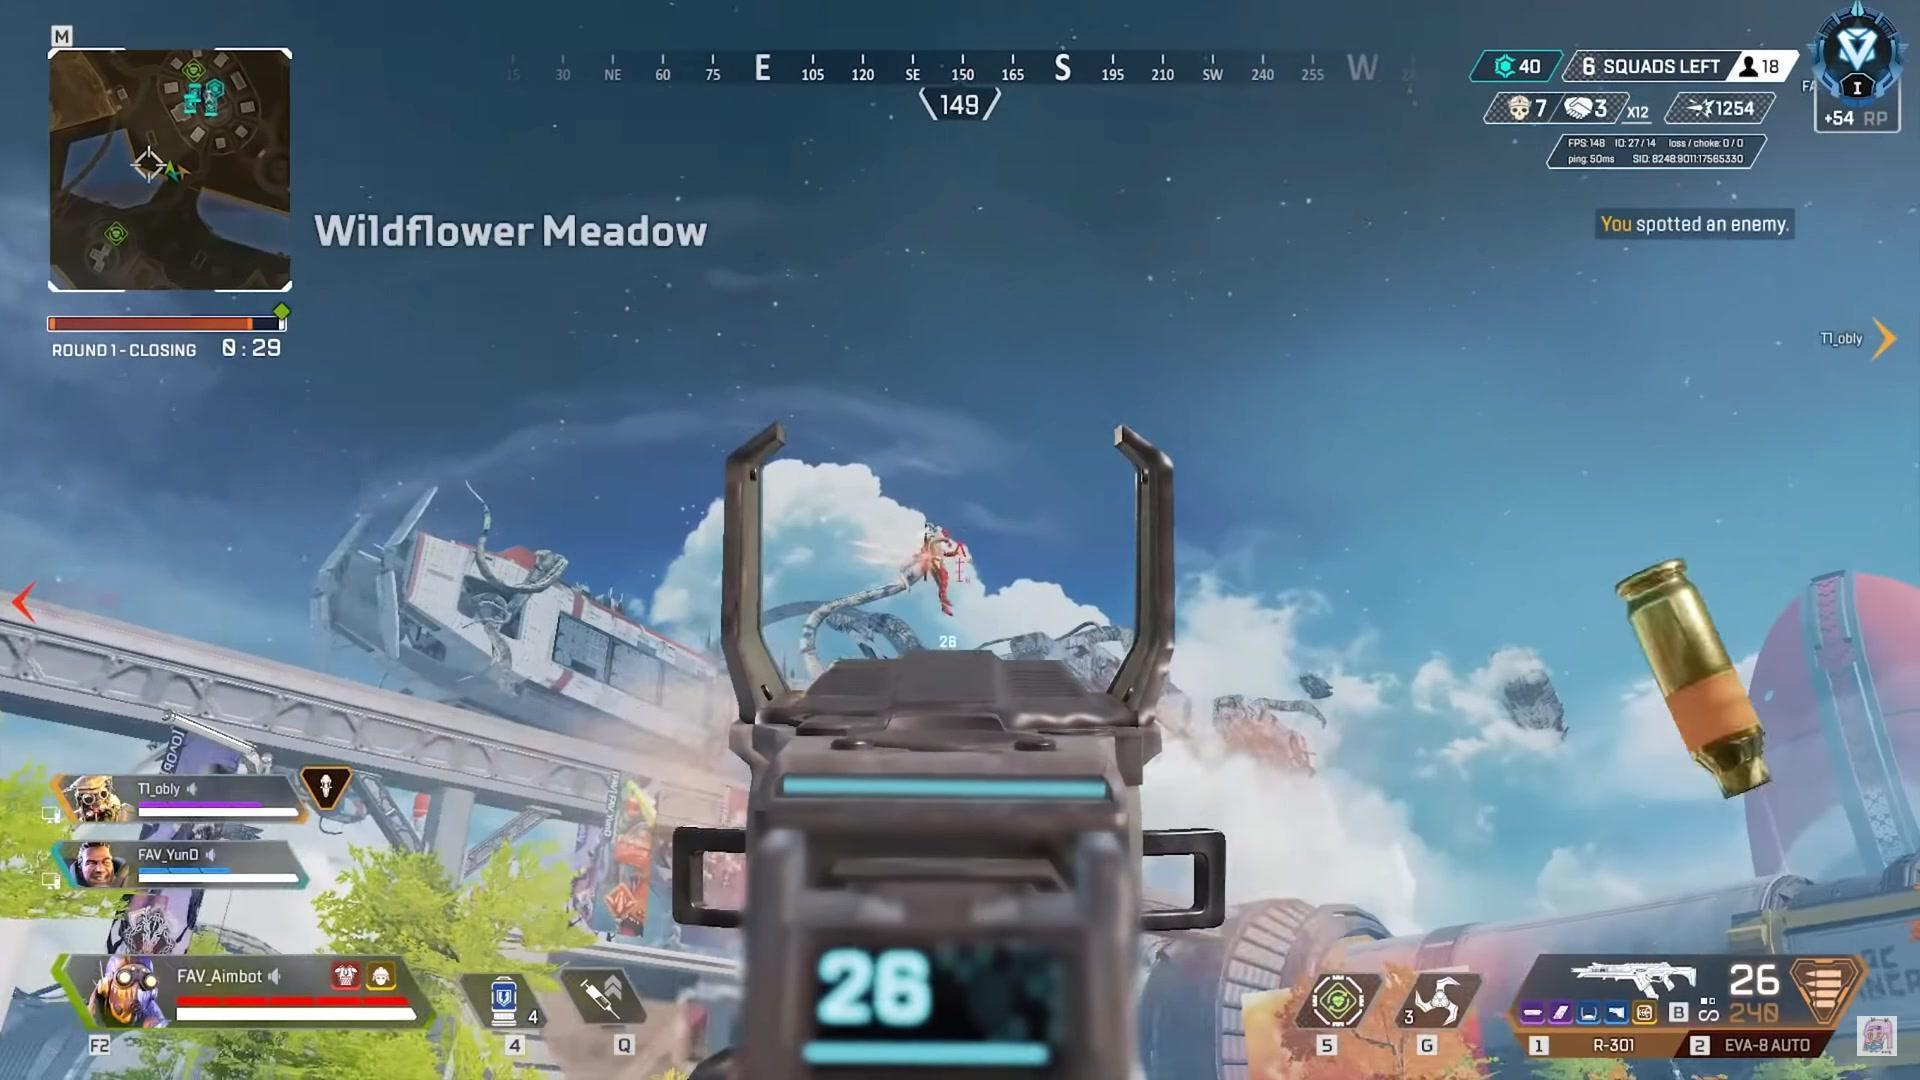avatar: (915, 524, 958, 618)
